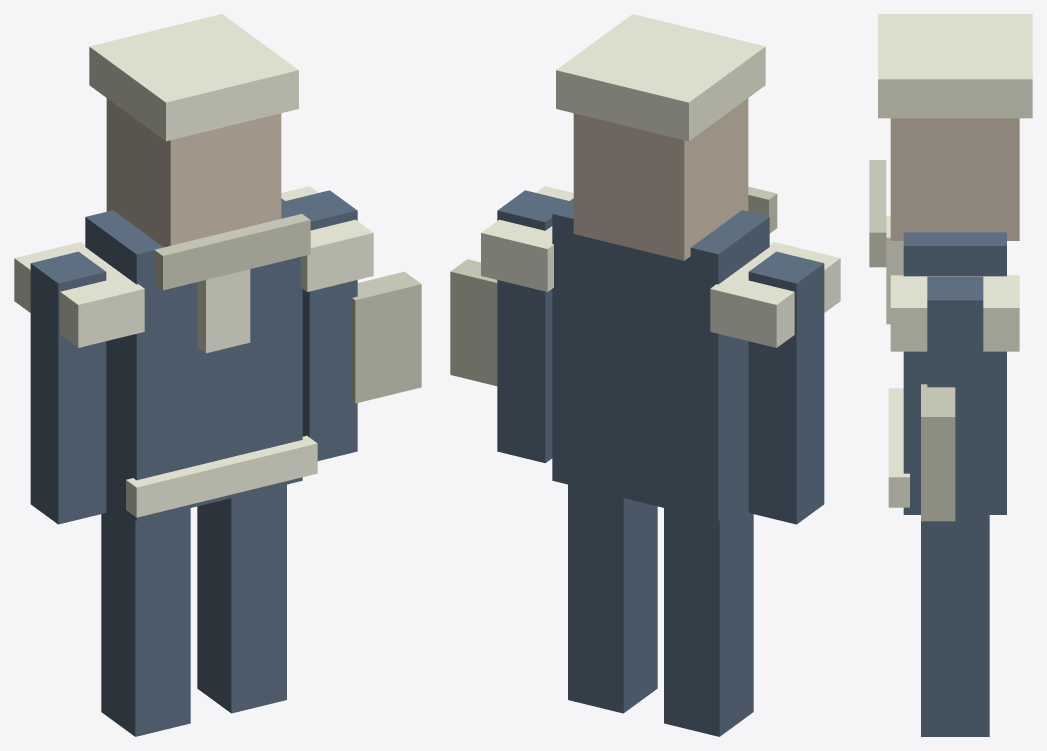
Rendered from 11_elo_mossguard_tactician_at_early_warning.glb.
3 renders of one model, left to right at view 1: azimuth 30°, elevation 25°; view 2: azimuth 150°, elevation 25°; view 3: azimuth 270°, elevation 25°, orthographic.
Parts seen in each view (by area): view 1: Elo Mossguard, Tactician at Early-Warning; view 2: Elo Mossguard, Tactician at Early-Warning; view 3: Elo Mossguard, Tactician at Early-Warning.
Part boxes in pixels (x1=…): Elo Mossguard, Tactician at Early-Warning: x1=14, y1=14, x2=421, y2=736; Elo Mossguard, Tactician at Early-Warning: x1=450, y1=14, x2=840, y2=736; Elo Mossguard, Tactician at Early-Warning: x1=869, y1=14, x2=1032, y2=736.
Bounding box in the file's own units: 0.9027 × 1.55 × 0.3518.
